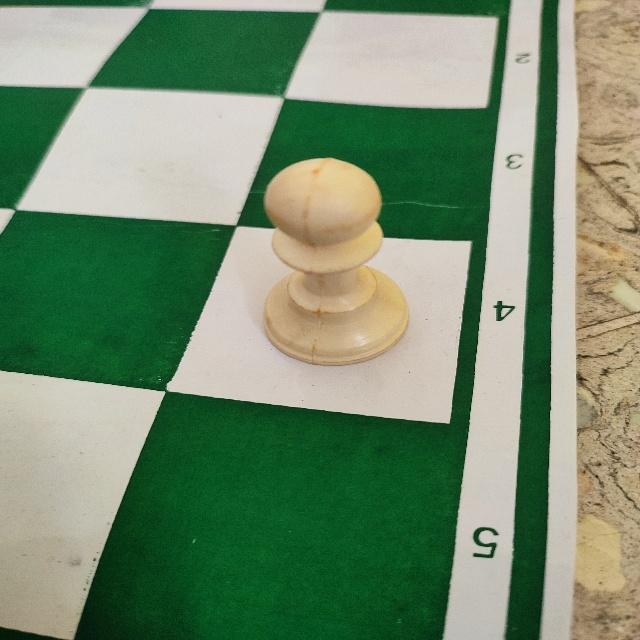Pawn: (258, 155, 414, 370)
